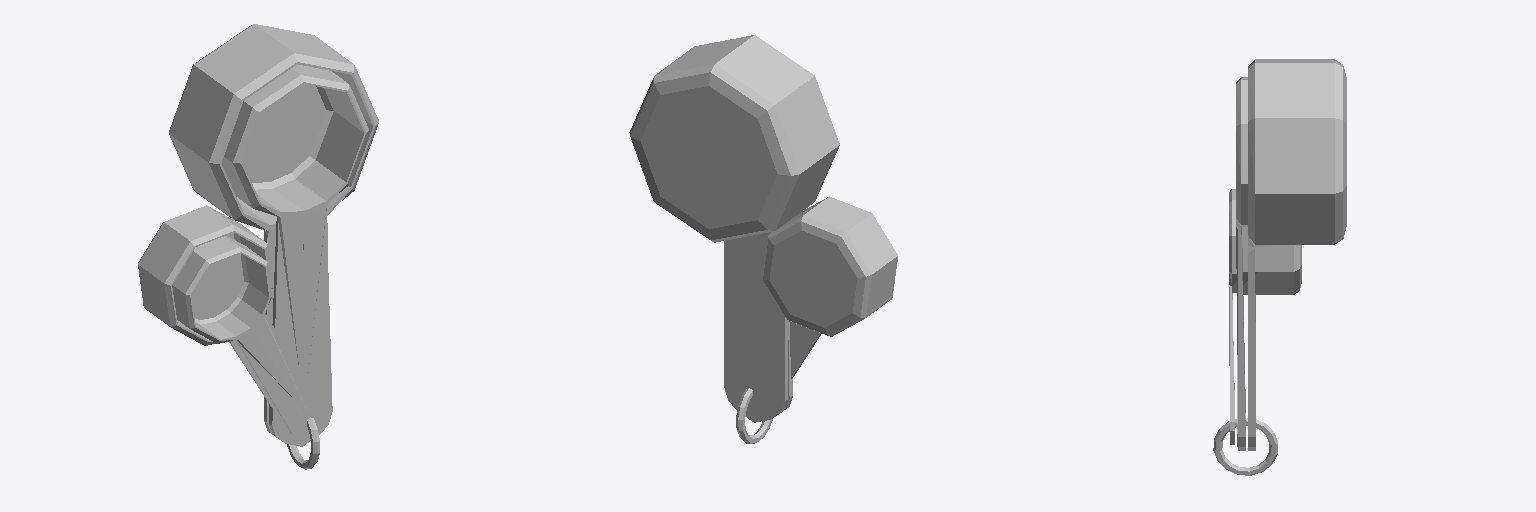
The model's file is mspoon_measuring_spoon_stack_large_w_ring.obj.
3 renders of one model, left to right at view 1: azimuth 30°, elevation 25°; view 2: azimuth 150°, elevation 25°; view 3: azimuth 270°, elevation 25°, orthographic.
Parts seen in each view (by area): view 1: mspoon_measuring_spoon_stack_large_w/ring_Cylinder.044; view 2: mspoon_measuring_spoon_stack_large_w/ring_Cylinder.044; view 3: mspoon_measuring_spoon_stack_large_w/ring_Cylinder.044.
Part boxes in pixels (x1,y1,x2,y2): mspoon_measuring_spoon_stack_large_w/ring_Cylinder.044: (138,24,378,469); mspoon_measuring_spoon_stack_large_w/ring_Cylinder.044: (629,35,897,443); mspoon_measuring_spoon_stack_large_w/ring_Cylinder.044: (1213,59,1346,475).
Size of the model in its own units: 2.11 by 3.73 by 1.1.